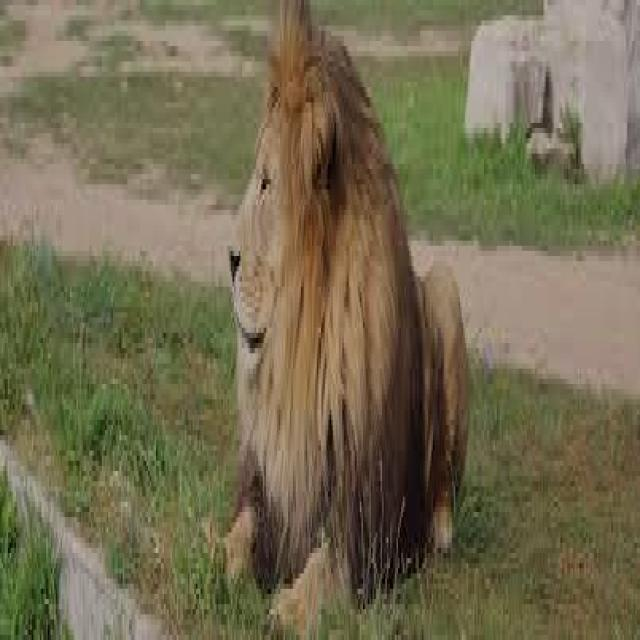Lion: (218, 0, 471, 635)
